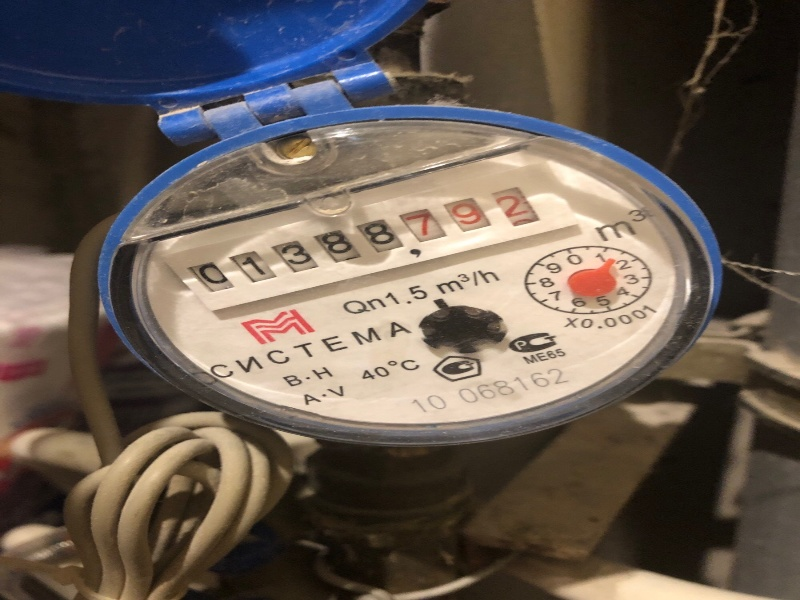dial: (173, 170, 532, 290)
